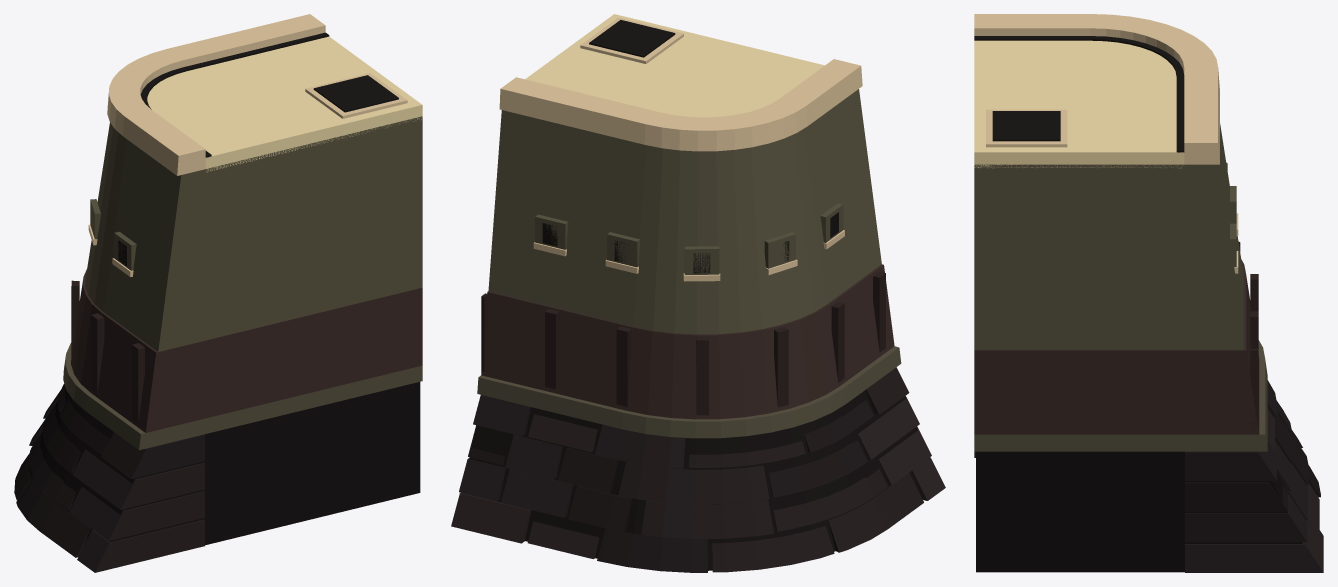
Rendered from VerTow02.glb.
3 renders of one model, left to right at view 1: azimuth 30°, elevation 25°; view 2: azimuth 150°, elevation 25°; view 3: azimuth 270°, elevation 25°, orthographic. The views are drawn at different scales.
Visible parts, largest first — view 1: VerTow02_mortar; view 2: VerTow02_mortar; view 3: VerTow02_mortar.
Boxes of the visible parts, left/top/right/bottom form: VerTow02_mortar: left=14, top=14, right=422, bottom=572; VerTow02_mortar: left=451, top=14, right=945, bottom=572; VerTow02_mortar: left=974, top=14, right=1323, bottom=572.
Size of the model in its own units: 4.84 by 5.6 by 4.13.
